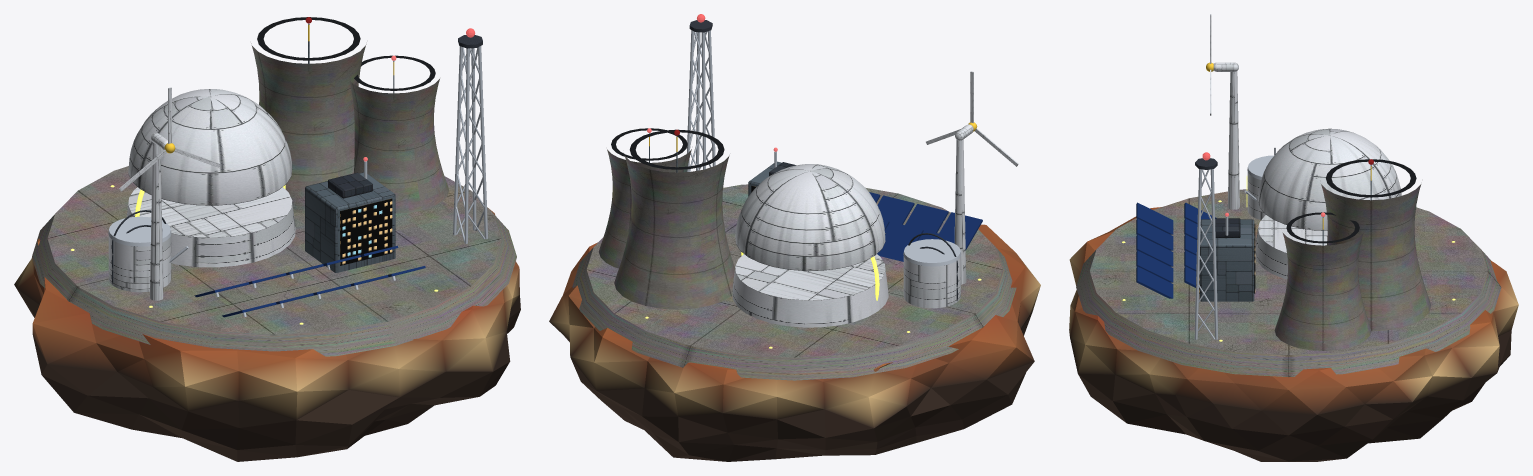
Rendered from power.glb.
3 renders of one model, left to right at view 1: azimuth 30°, elevation 25°; view 2: azimuth 150°, elevation 25°; view 3: azimuth 270°, elevation 25°, orthographic. The views are drawn at different scales.
Visible parts, largest first — view 1: object 1, object 2, object 14, object 16, object 19, object 13, object 22, object 23, object 101, object 28, object 102, object 17 (+3 smaller); view 2: object 1, object 2, object 16, object 14, object 13, object 19, object 101, object 102, object 28, object 33, object 43, object 17 (+4 smaller); view 3: object 1, object 2, object 16, object 14, object 19, object 22, object 13, object 28, object 17, object 49, object 47, object 45 (+4 smaller).
Part boxes in pixels (<box>): object 1: <box>14,208,520,461</box>; object 2: <box>32,166,516,356</box>; object 14: <box>128,89,292,205</box>; object 16: <box>251,43,366,212</box>; object 19: <box>350,79,448,213</box>; object 13: <box>126,187,295,267</box>; object 22: <box>305,172,395,272</box>; object 23: <box>340,198,392,265</box>; object 101: <box>108,235,171,292</box>; object 28: <box>149,142,163,300</box>; object 102: <box>108,216,171,246</box>; object 17: <box>257,17,360,60</box>; object 1: <box>549,224,1040,461</box>; object 2: <box>572,184,1016,380</box>; object 16: <box>614,154,734,309</box>; object 14: <box>735,164,885,270</box>; object 13: <box>732,254,888,327</box>; object 19: <box>598,149,691,268</box>; object 101: <box>903,256,960,308</box>; object 102: <box>903,239,961,266</box>; object 28: <box>954,139,966,284</box>; object 33: <box>877,222,923,261</box>; object 43: <box>905,204,948,240</box>; object 17: <box>629,129,724,169</box>; object 1: <box>1069,207,1518,461</box>; object 2: <box>1076,189,1501,377</box>; object 16: <box>1321,184,1431,331</box>; object 14: <box>1258,128,1401,230</box>; object 19: <box>1274,232,1371,350</box>; object 22: <box>1199,219,1254,301</box>; object 13: <box>1255,215,1327,279</box>; object 28: <box>1227,71,1239,209</box>; object 17: <box>1326,159,1416,197</box>; object 49: <box>1136,266,1173,298</box>; object 47: <box>1136,250,1173,282</box>; object 45: <box>1136,234,1173,266</box>.
Bounding box in the file's own units: 6.96 × 5.09 × 6.55.
17 materials, 7 textured.
